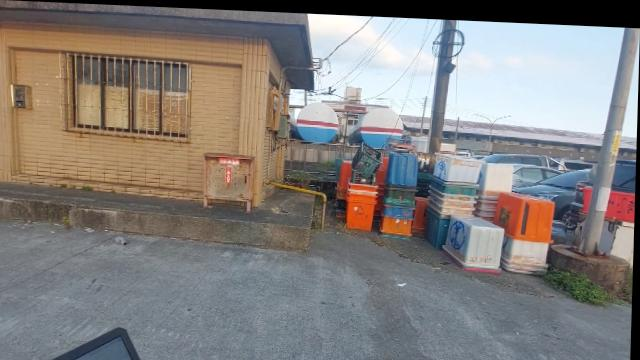pollute: (333, 138, 557, 269), (599, 216, 634, 255), (607, 186, 635, 215)
